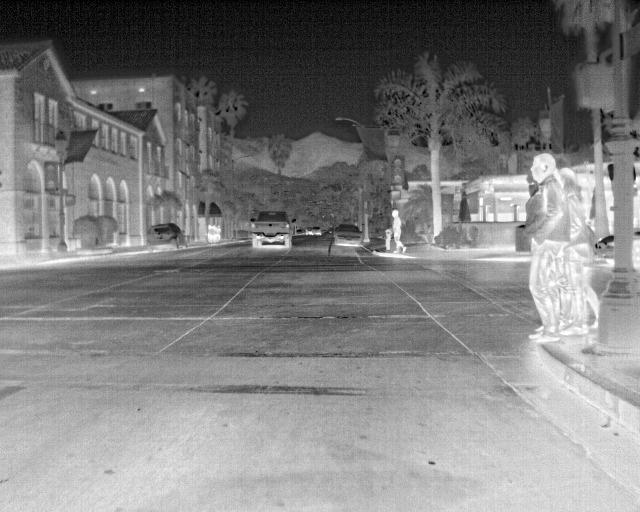bicycle: (246, 211, 297, 251), (145, 221, 185, 253), (331, 223, 365, 250), (309, 225, 323, 237)
empty: (526, 150, 569, 345), (558, 165, 600, 332), (390, 209, 407, 255)
